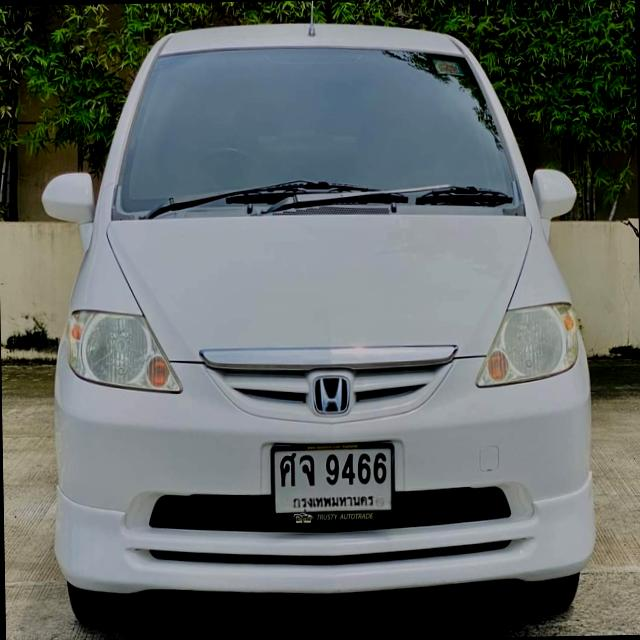license_plate: (270, 440, 396, 527)
